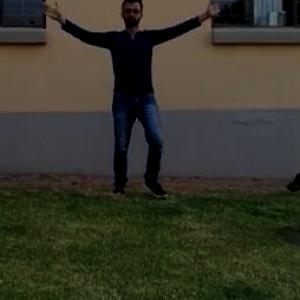takeoff: (34, 0, 213, 183)
